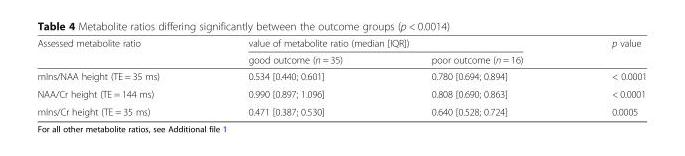table: (36, 37, 646, 117)
table column: (203, 37, 386, 117), (386, 37, 566, 117), (36, 37, 203, 117), (566, 37, 646, 117)
table column header: (36, 37, 646, 67)
table row: (36, 84, 646, 102), (36, 67, 646, 84), (36, 51, 646, 67), (36, 102, 646, 117), (36, 37, 646, 51)
table spanning cell: (203, 37, 566, 51), (36, 37, 203, 67), (566, 37, 646, 67)
